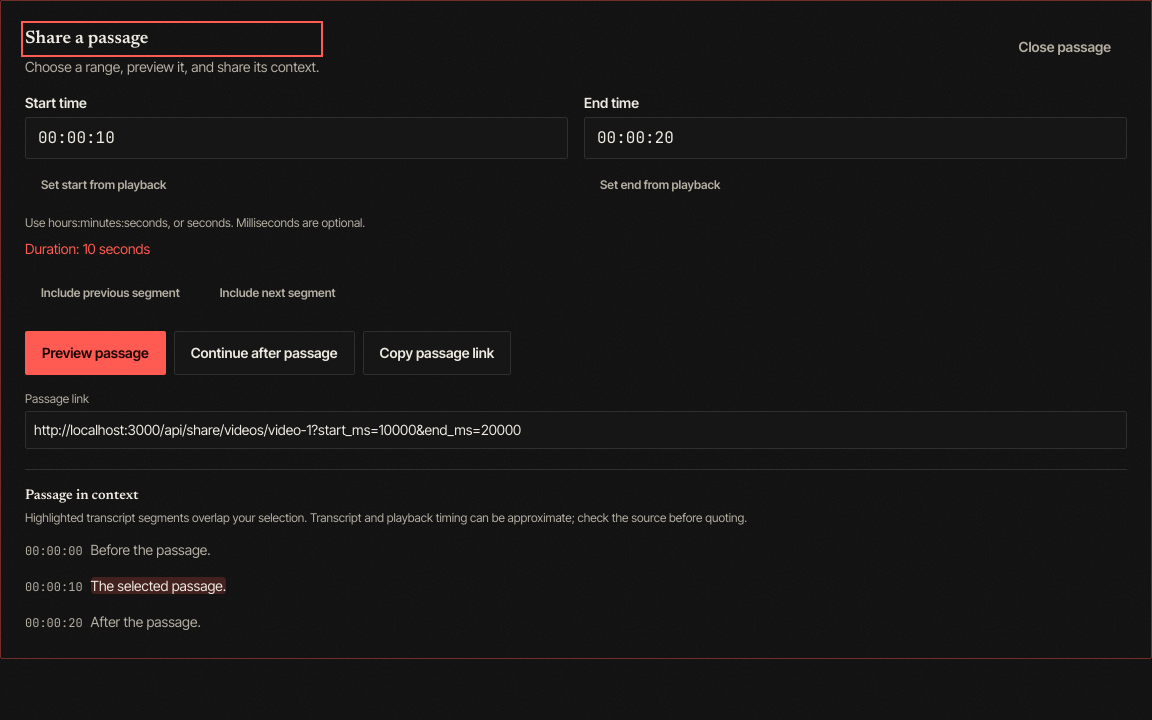
Test case: PassagePanel › sets a boundary from playback and reports unavailable playback honestly
The width and height of the screenshot is (1152, 720).
Click the button "Set start from playback" at (104, 185), box [25, 163, 182, 207]
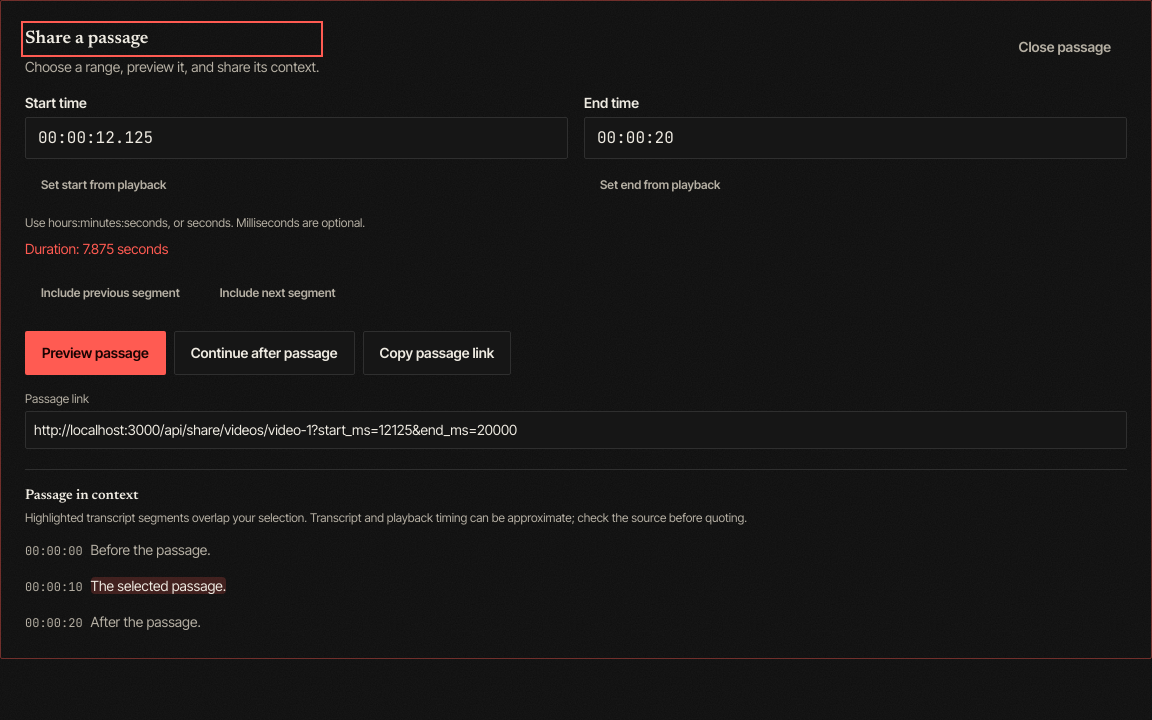
Now the field labelled "Start time" holds "00:00:12.125", box [25, 117, 568, 159]
Click the button "Set end from playback" at (660, 185), box [584, 163, 736, 207]
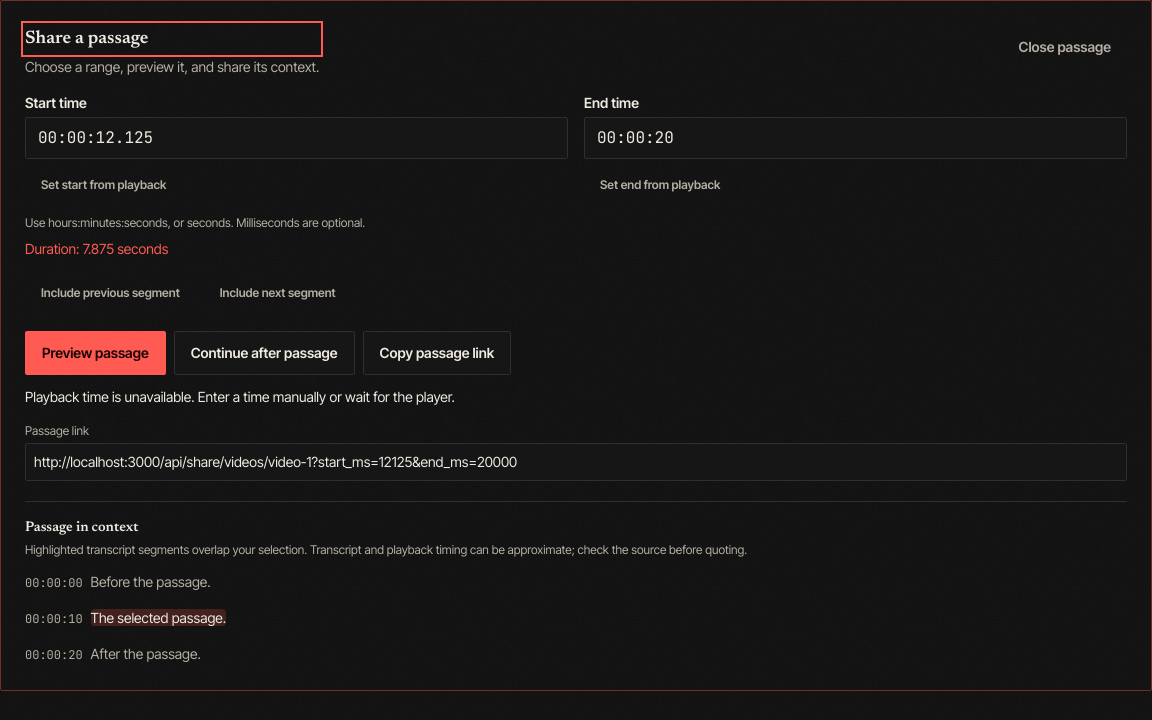
Now the message shows "Playback time is unavailable", box [25, 388, 455, 405]
